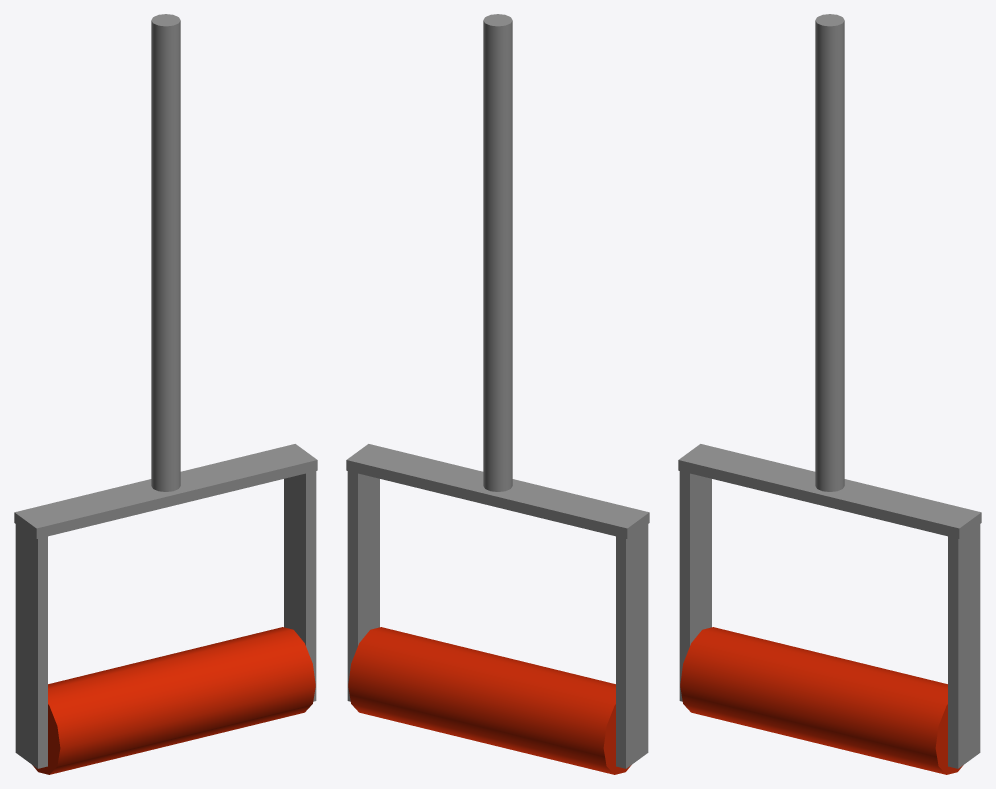
Rendered from pulley.FBX.
The picture shows the model from 3 angles, left to right: view 1: azimuth 30°, elevation 25°; view 2: azimuth 150°, elevation 25°; view 3: azimuth 330°, elevation 25°; orthographic projection.
Visible parts, largest first — view 1: Metal, Handle; view 2: Metal, Handle; view 3: Metal, Handle.
Part boxes in pixels (x1,y1,x2,y2): Metal: (14, 14, 317, 768); Handle: (32, 627, 315, 774); Metal: (346, 14, 649, 768); Handle: (348, 627, 631, 774); Metal: (678, 14, 981, 768); Handle: (680, 627, 963, 774).
Bounding box in the file's own units: 43.31 × 106 × 11.81.
